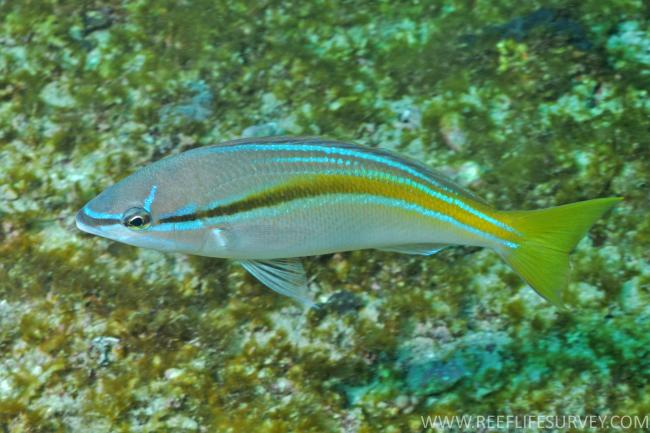fish: (76, 135, 619, 310)
